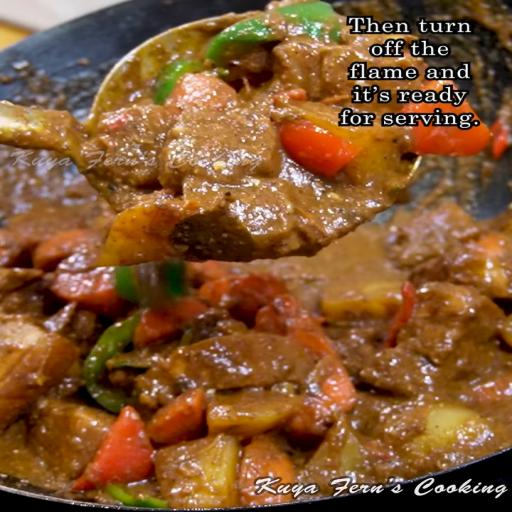pork caldereta: (0, 266, 498, 478)
